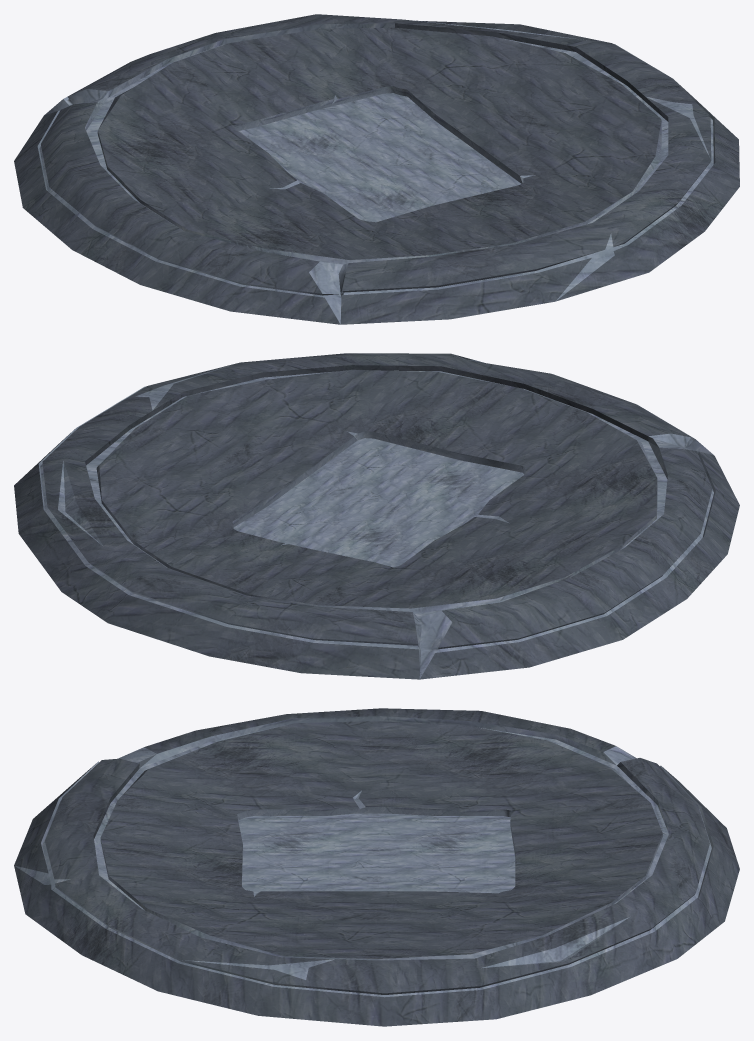
File: s0_AG_Platform_Minigames_01.glb
3 views of the same model, one above another, from view 1: azimuth 30°, elevation 25°; view 2: azimuth 150°, elevation 25°; view 3: azimuth 270°, elevation 25° (orthographic).
Visible parts, largest first — view 1: node_AG_Platform_Minigames; view 2: node_AG_Platform_Minigames; view 3: node_AG_Platform_Minigames.
Boxes of the visible parts, x1,y1,x2,y2 form: node_AG_Platform_Minigames: (14, 14, 739, 324); node_AG_Platform_Minigames: (14, 353, 739, 679); node_AG_Platform_Minigames: (14, 708, 739, 1026).
Size of what is drawn, in the model's own units: 18.28 by 1.06 by 18.2.
Materials: 2 (2 with a texture image).
